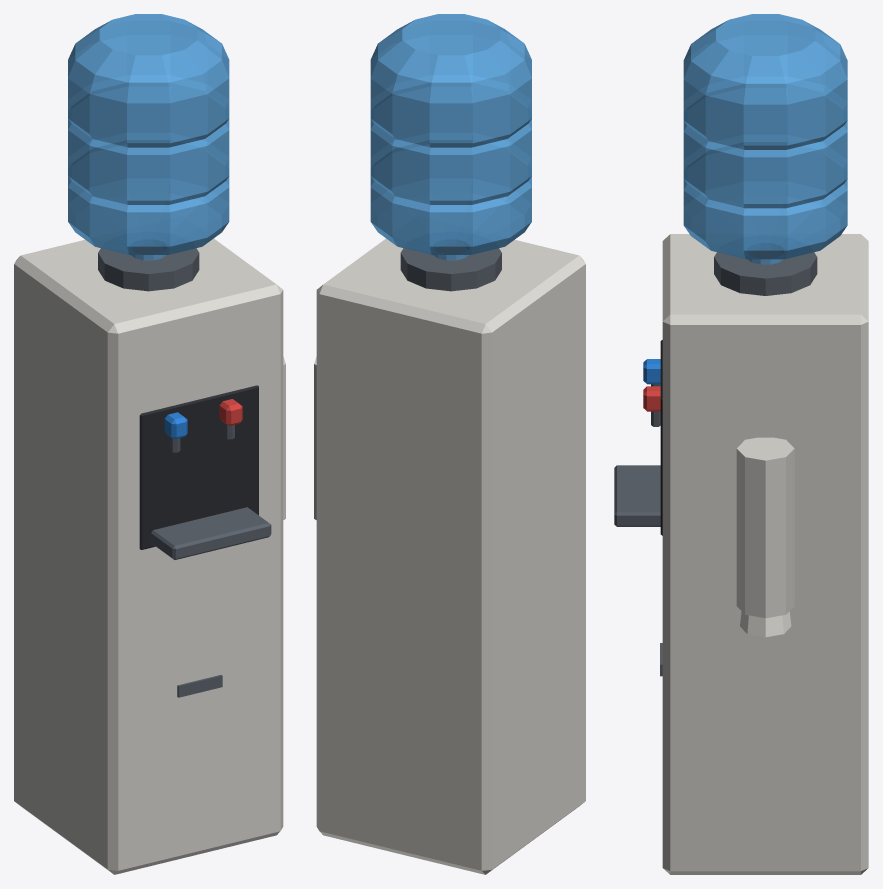
The model's file is water_dispenser.glb.
The picture shows the model from 3 angles, left to right: view 1: azimuth 30°, elevation 25°; view 2: azimuth 150°, elevation 25°; view 3: azimuth 270°, elevation 25°; orthographic projection.
Visible parts, largest first — view 1: WaterDispenser; view 2: WaterDispenser; view 3: WaterDispenser.
Boxes of the visible parts, box(x1,y1,x2,y2) form: WaterDispenser: box(14, 14, 285, 874); WaterDispenser: box(314, 14, 585, 874); WaterDispenser: box(614, 14, 868, 874).
Bounding box in the file's own units: 0.405 × 1.37 × 0.395.
